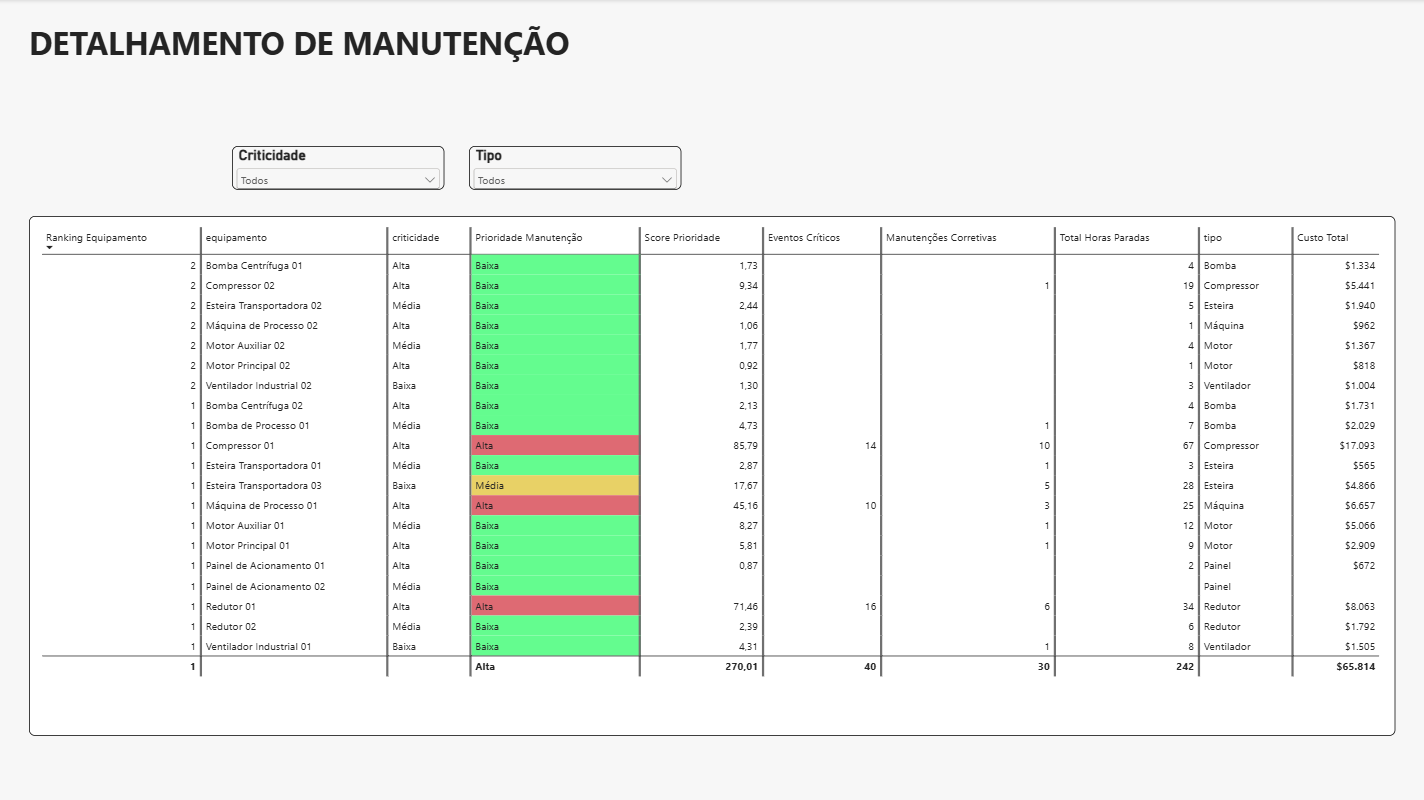

This screenshot's page, from the dashboard's own definition file:
{"tool":"powerbi","page":{"name":"Detalhamento","canvas":[1920,1080],"ordinal":1},"visuals":[{"type":"tableEx","fields":{"Values":["tb_equipamentos.Ranking Equipamento","tb_equipamentos.equipamento","tb_equipamentos.criticidade","tb_equipamentos.Prioridade Manutenção","tb_equipamentos.Score Prioridade","tb_leituras.Eventos Críticos","tb_manutencoes.Manutenções Corretivas","tb_manutencoes.Total Horas Paradas","tb_equipamentos.tipo","tb_manutencoes.Custo Total"]},"box":[40.1,292.7,1840,700],"z":0},{"type":"slicer","fields":{"Values":["tb_equipamentos.criticidade"]},"box":[313.6,198.6,285.7,59.2],"z":1},{"type":"slicer","fields":{"Values":["tb_equipamentos.tipo"]},"box":[632.5,198.6,285.7,59.2],"z":2},{"type":"textbox","box":[40,30,750,90],"z":4}]}

Visuals, with their boxes in screenshot pixels (x1, y1, x2, y2), scaled from the page's 1920x1080 canvas onto the 1424x800 screenshot:
tableEx - tb_equipamentos.Ranking Equipamento x tb_equipamentos.equipamento: <box>30,217,1394,735</box>
slicer - tb_equipamentos.criticidade: <box>233,147,444,191</box>
slicer - tb_equipamentos.tipo: <box>469,147,681,191</box>
textbox: <box>30,22,586,89</box>
